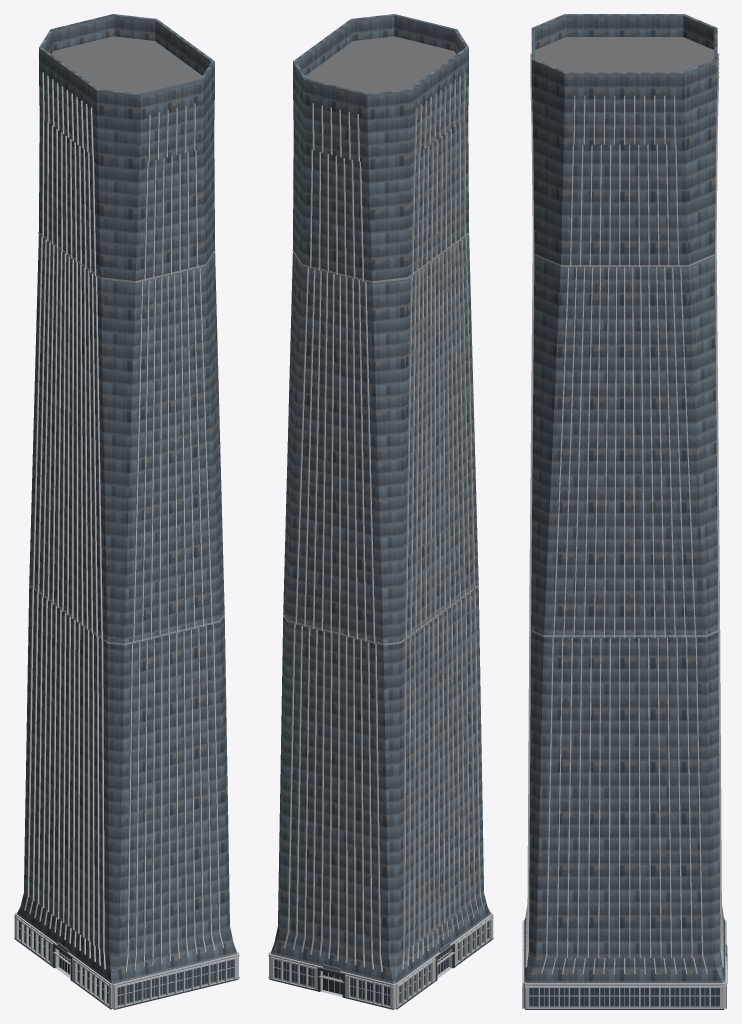
Rendered from one_manhattan_west.glb.
3 renders of one model, left to right at view 1: azimuth 30°, elevation 25°; view 2: azimuth 150°, elevation 25°; view 3: azimuth 270°, elevation 25°, orthographic. The views are drawn at different scales.
Parts seen in each view (by area): view 1: one_manhattan_west; view 2: one_manhattan_west; view 3: one_manhattan_west.
Part boxes in pixels (x1,y1,x2,y2): one_manhattan_west: (14, 14, 239, 1009); one_manhattan_west: (268, 14, 493, 1009); one_manhattan_west: (522, 14, 727, 1009).
Size of the model in its own units: 45.42 by 303 by 60.4.
2 materials, 2 textured.
